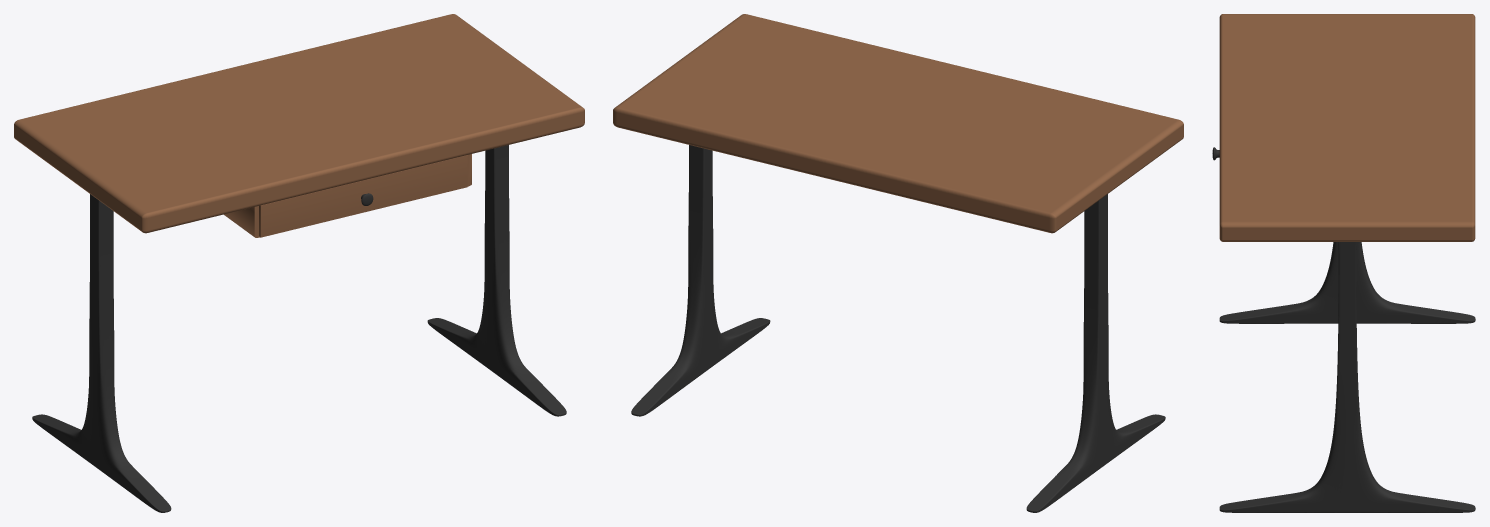
Rendered from compressed_Desk.glb.
The picture shows the model from 3 angles, left to right: view 1: azimuth 30°, elevation 25°; view 2: azimuth 150°, elevation 25°; view 3: azimuth 270°, elevation 25°; orthographic projection. The views are drawn at different scales.
Visible parts, largest first — view 1: Cube.001, Cube, Cube.003; view 2: Cube.001, Cube; view 3: Cube.001, Cube.
Part boxes in pixels (x1,y1,x2,y2): Cube.001: (14, 14, 584, 233); Cube: (32, 145, 566, 512); Cube.003: (224, 154, 471, 237); Cube.001: (613, 14, 1183, 233); Cube: (631, 145, 1165, 512); Cube.001: (1219, 14, 1475, 241); Cube: (1219, 242, 1475, 512).
Bounding box in the file's own units: 1.24 × 0.8128 × 0.6526.
